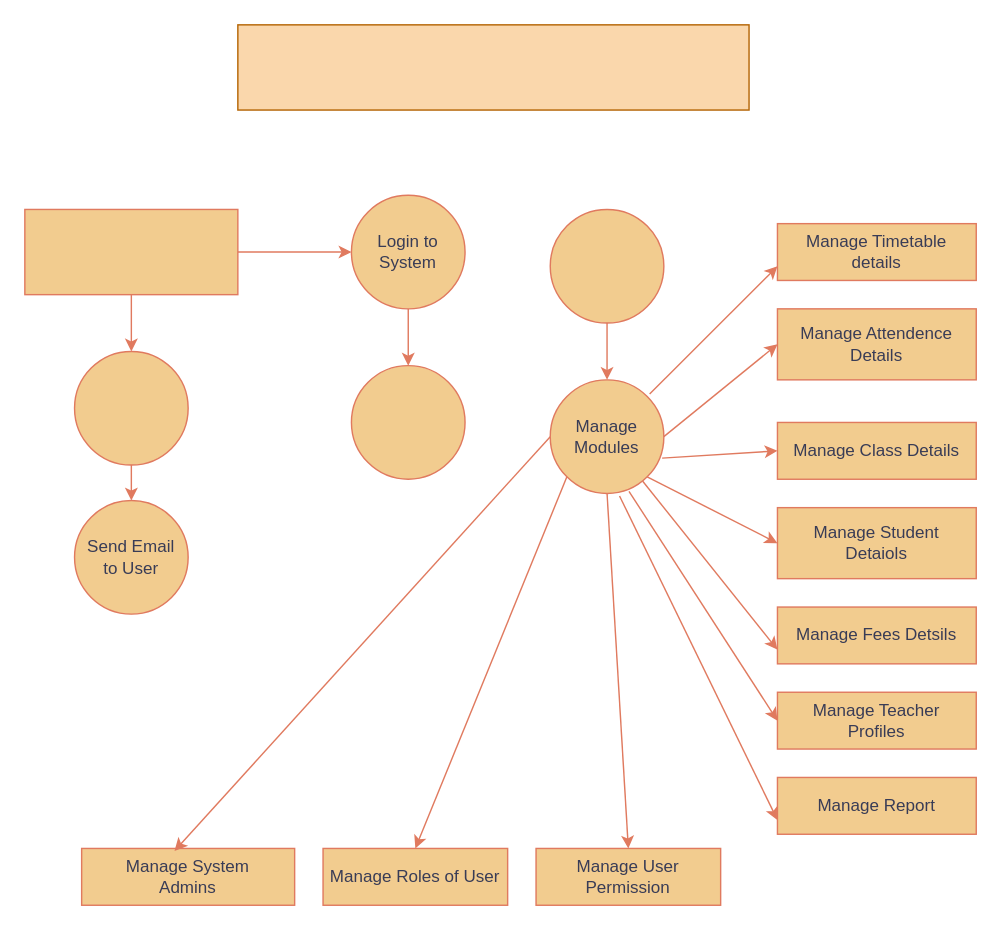
Image size: 1001x930. Some labels were removed from this diagram. Each missing label, with the centre of its shape:
"Admin" goes at pixel 130 251.
"Check Credentials" goes at pixel 407 421.
"Check Roles of Access" goes at pixel 606 265.
"Forgot Password" goes at pixel 130 407.
"student Information System" goes at pixel 492 66.
